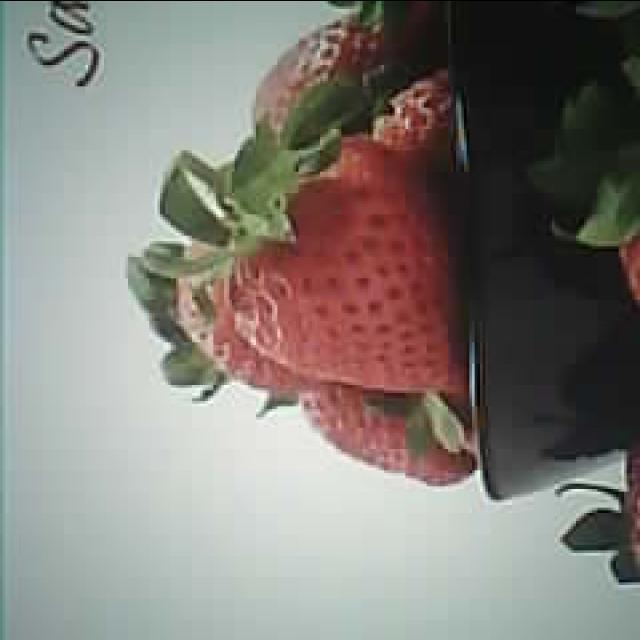ripe: (225, 139, 467, 391)
